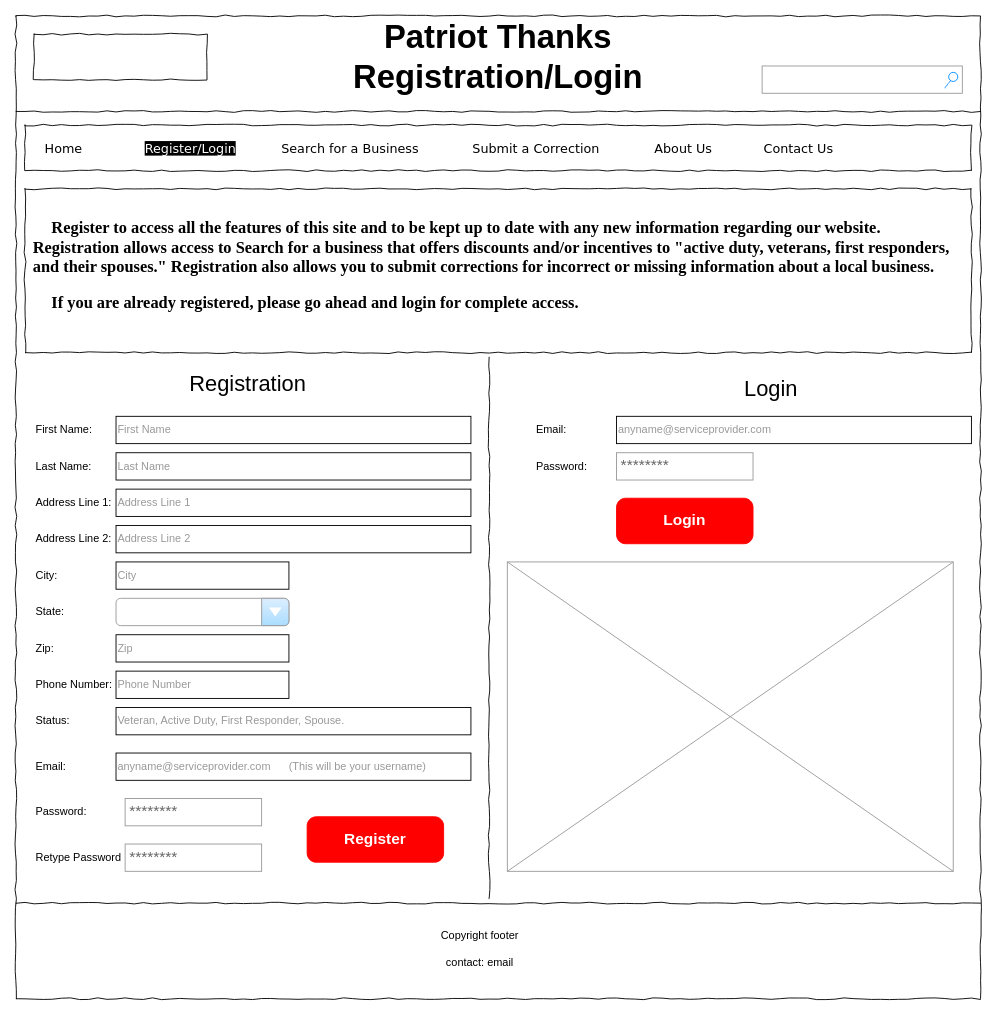
Image size: 996x1015. Some labels were removed from this diagram. Here are the shapes that lost their labels. From the top down, the centre of each, then its label:
(120,56): LOGO
(861,79): Search
(202,611): State
